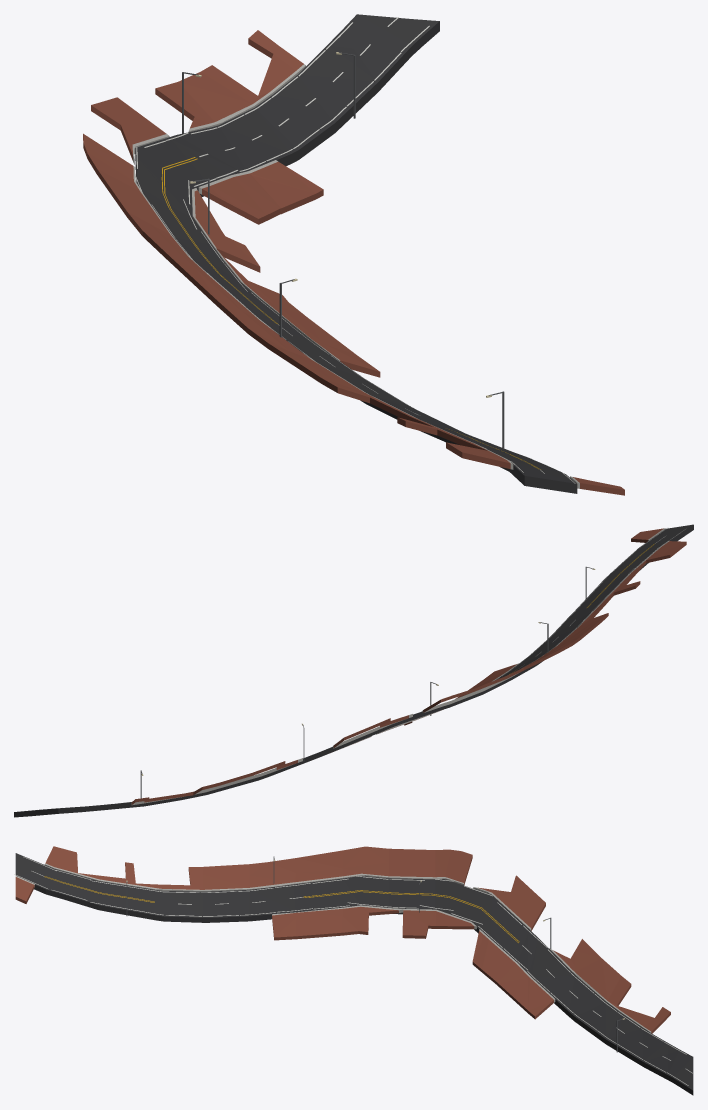
The picture shows the model from 3 angles, top to bottom: view 1: azimuth 30°, elevation 25°; view 2: azimuth 150°, elevation 25°; view 3: azimuth 270°, elevation 25°; orthographic projection. The views are drawn at different scales.
Bounding box in the file's own units: 77.68 × 23.99 × 146.
